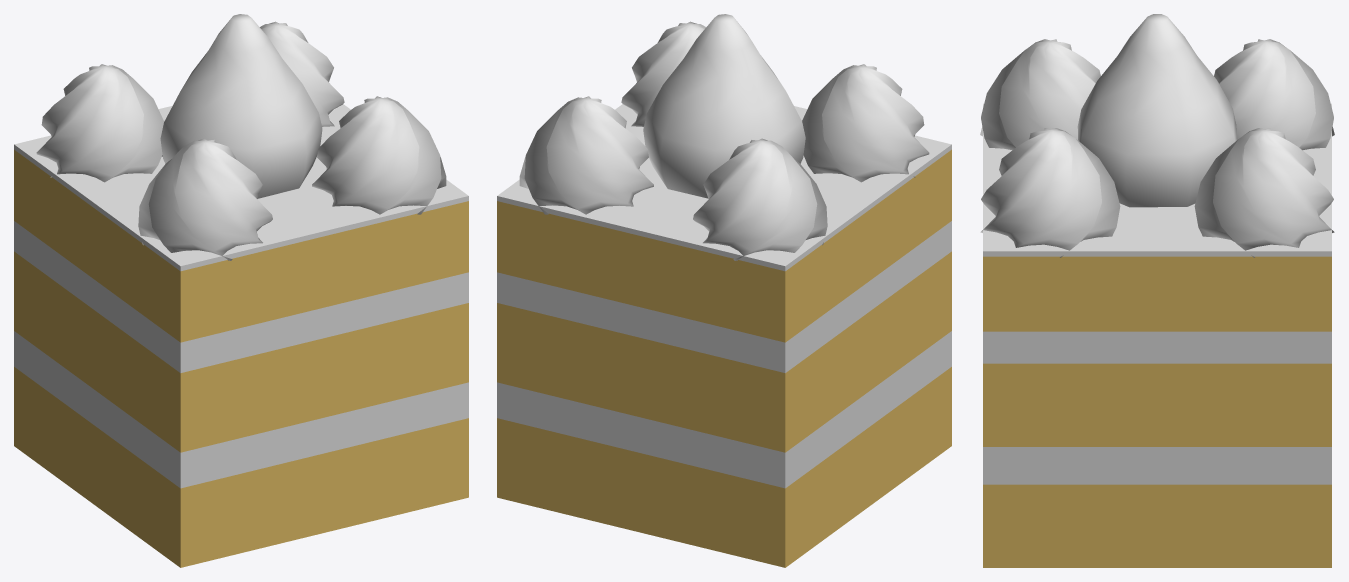
The model's file is cake_1.fbx.
3 renders of one model, left to right at view 1: azimuth 30°, elevation 25°; view 2: azimuth 150°, elevation 25°; view 3: azimuth 270°, elevation 25°, orthographic. The views are drawn at different scales.
Parts seen in each view (by area): view 1: 立方体.005; view 2: 立方体.005; view 3: 立方体.005.
Part boxes in pixels (x1=…): 立方体.005: x1=14, y1=14, x2=468, y2=567; 立方体.005: x1=497, y1=14, x2=951, y2=567; 立方体.005: x1=980, y1=14, x2=1334, y2=567.
Bounding box in the file's own units: 14.39 × 21.52 × 14.54.
